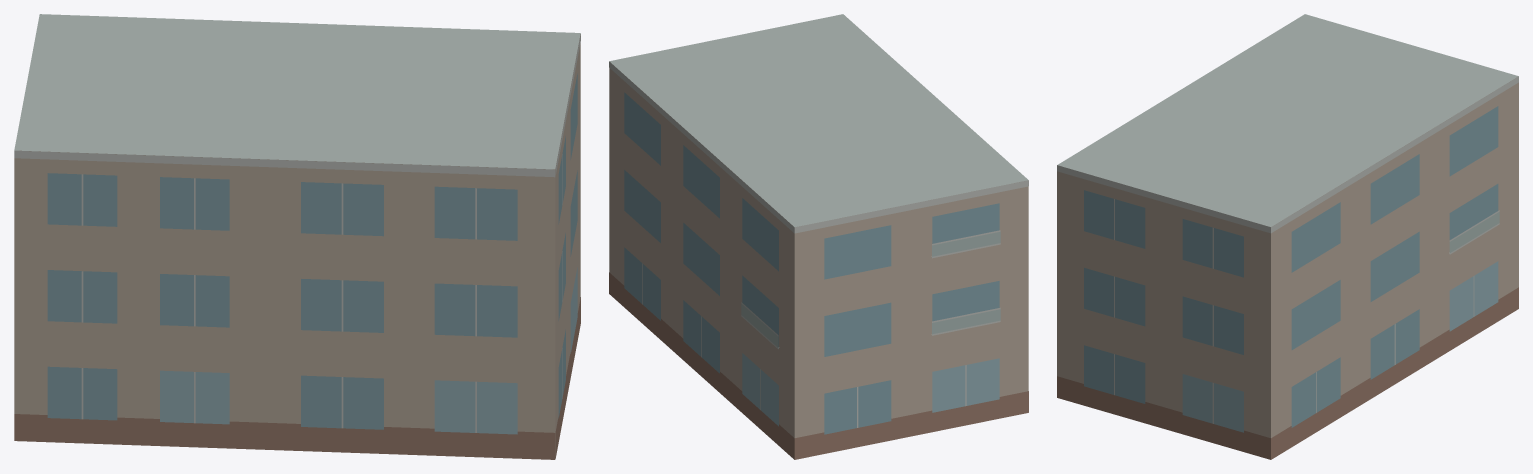
File: survey-upis-32904688.glb
The picture shows the model from 3 angles, left to right: view 1: azimuth 30°, elevation 25°; view 2: azimuth 150°, elevation 25°; view 3: azimuth 270°, elevation 25°; orthographic projection. The views are drawn at different scales.
Visible parts, largest first — view 1: survey-upis-32904688.tmp; view 2: survey-upis-32904688.tmp; view 3: survey-upis-32904688.tmp.
Boxes of the visible parts, <box> form: survey-upis-32904688.tmp: <box>14,14,580,459</box>; survey-upis-32904688.tmp: <box>609,14,1028,459</box>; survey-upis-32904688.tmp: <box>1057,14,1518,459</box>.
Size of the model in its own units: 17.99 by 9.15 by 16.47.
